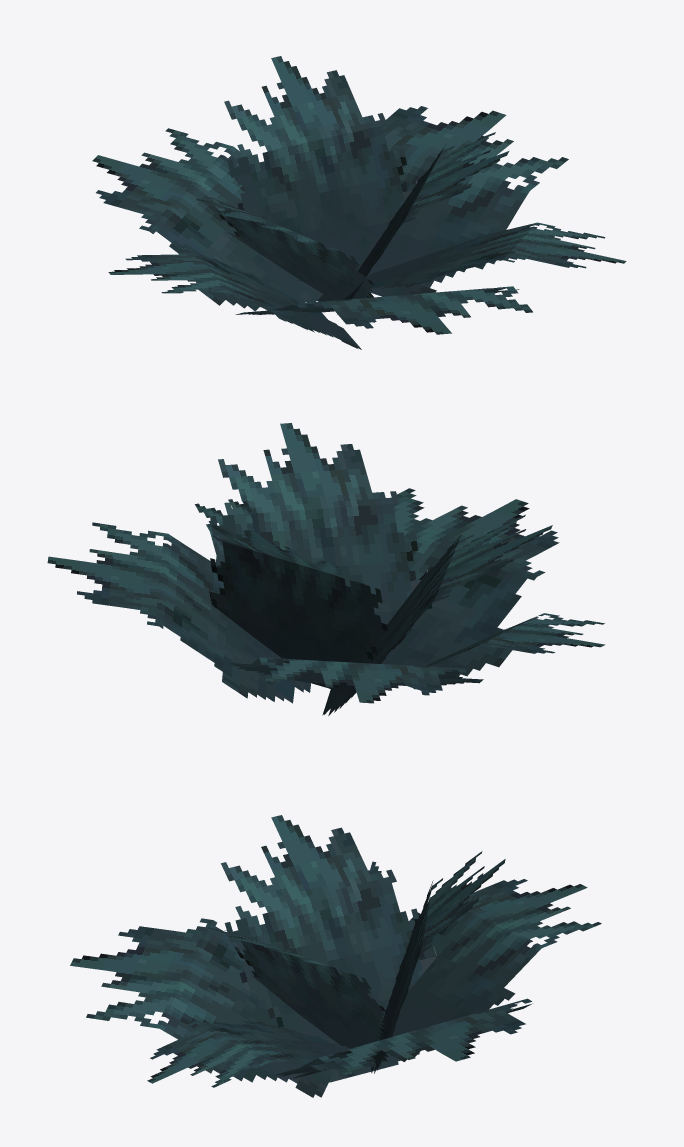
Rendered from town_grass03.fbx.
The picture shows the model from 3 angles, top to bottom: view 1: azimuth 30°, elevation 25°; view 2: azimuth 150°, elevation 25°; view 3: azimuth 270°, elevation 25°; orthographic projection. The views are drawn at different scales.
Parts seen in each view (by area): view 1: Material_#664; view 2: Material_#664; view 3: Material_#664.
Boxes of the visible parts, x1,y1,x2,y2 form: Material_#664: [92, 56, 626, 349]; Material_#664: [47, 423, 605, 715]; Material_#664: [70, 815, 601, 1097].
Size of the model in its own units: 1.39 by 0.5497 by 1.37.
